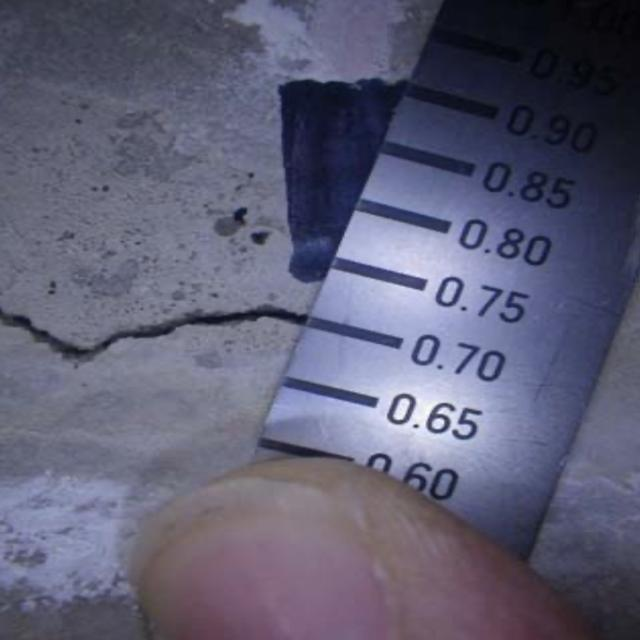crack: (8, 296, 302, 370)
